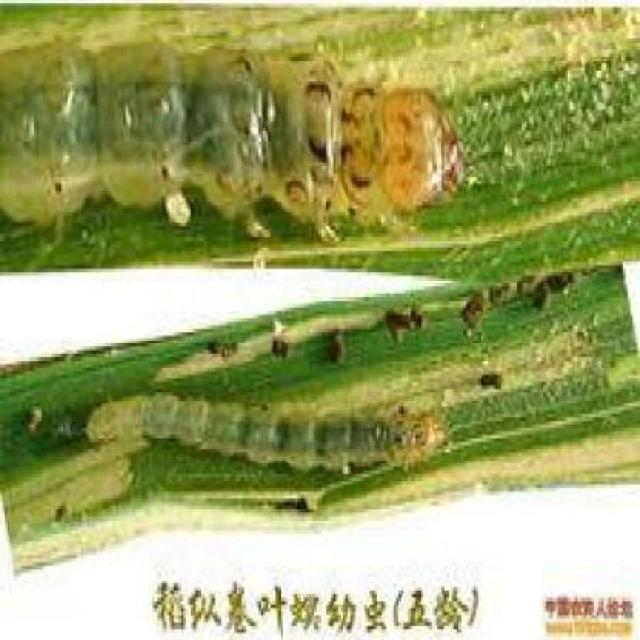leaf-folder: (17, 48, 474, 227), (76, 368, 452, 489)
